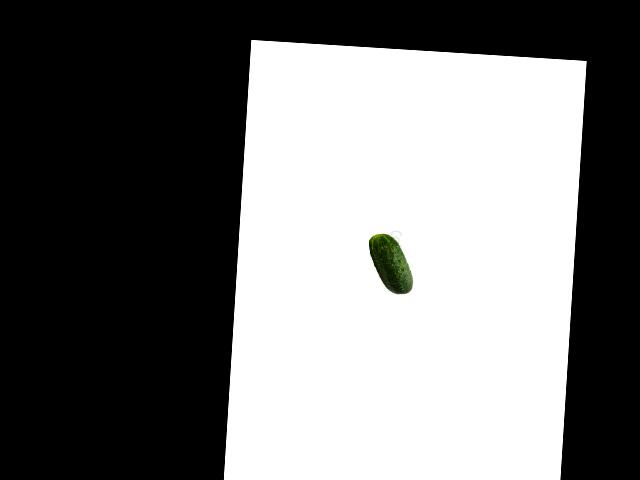cucumber: (366, 233, 415, 295)
